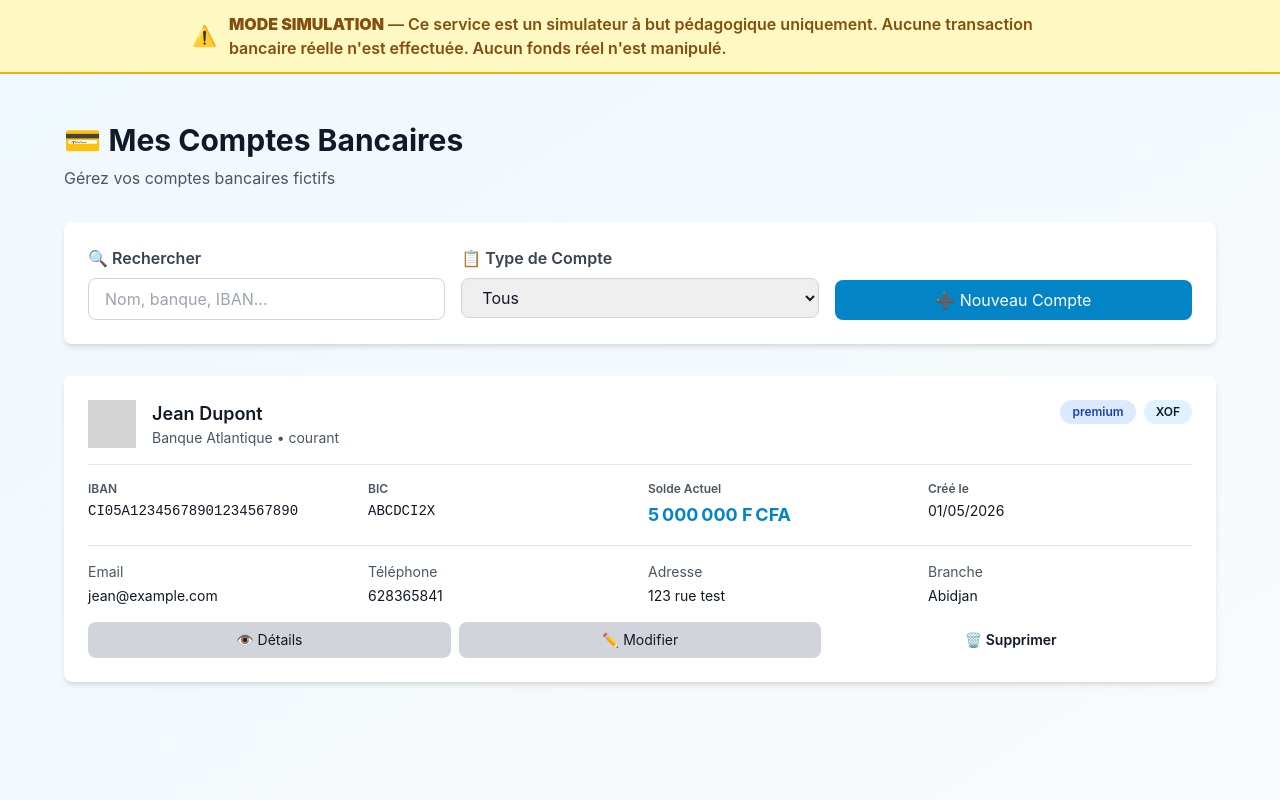
Test: BankAccountPage › Account Actions › should open edit form when modify button clicked
The width and height of the screenshot is (1280, 800).
What coordinates should you click on to do the following:
click the button "✏️ Modifier"
I would click on:
 (640, 640)
Its box is [459,622,821,658].
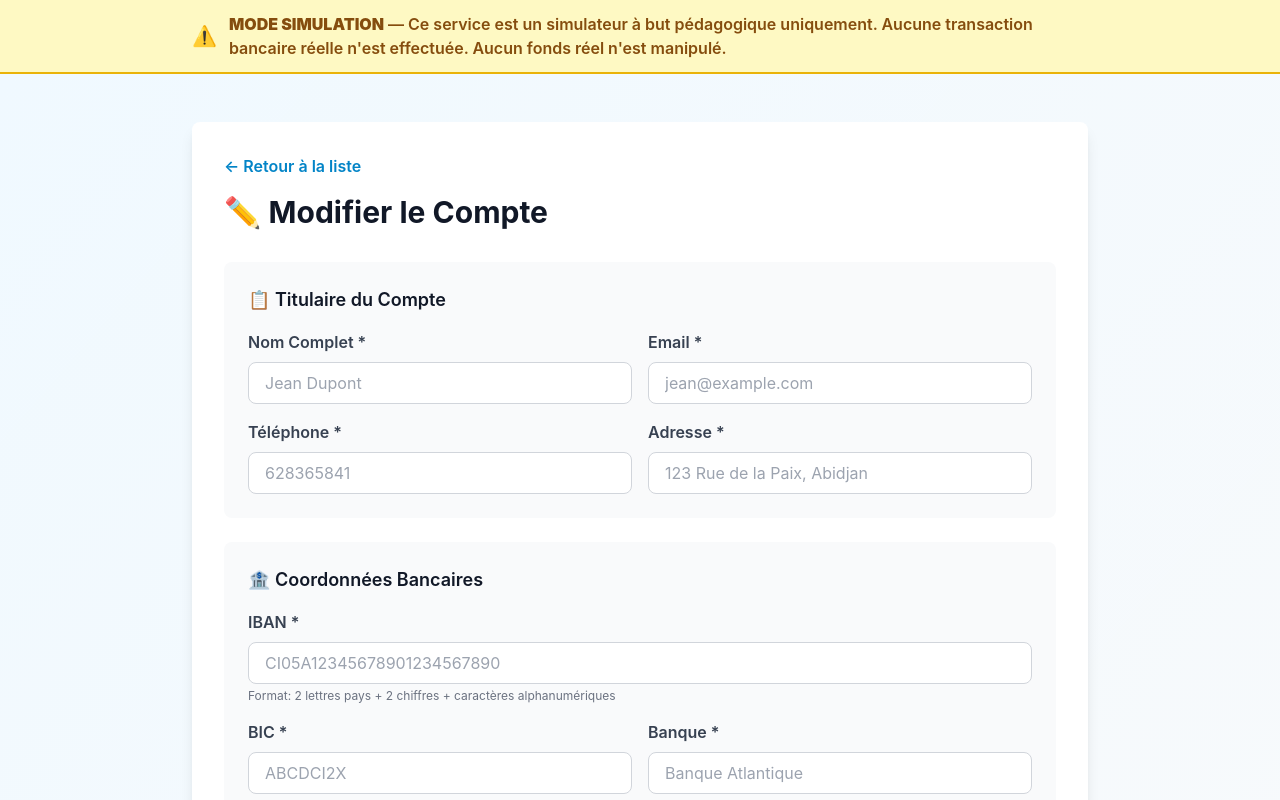
Expected: the heading "✏️ Modifier le Compte" is shown, [224,194,548,230]
